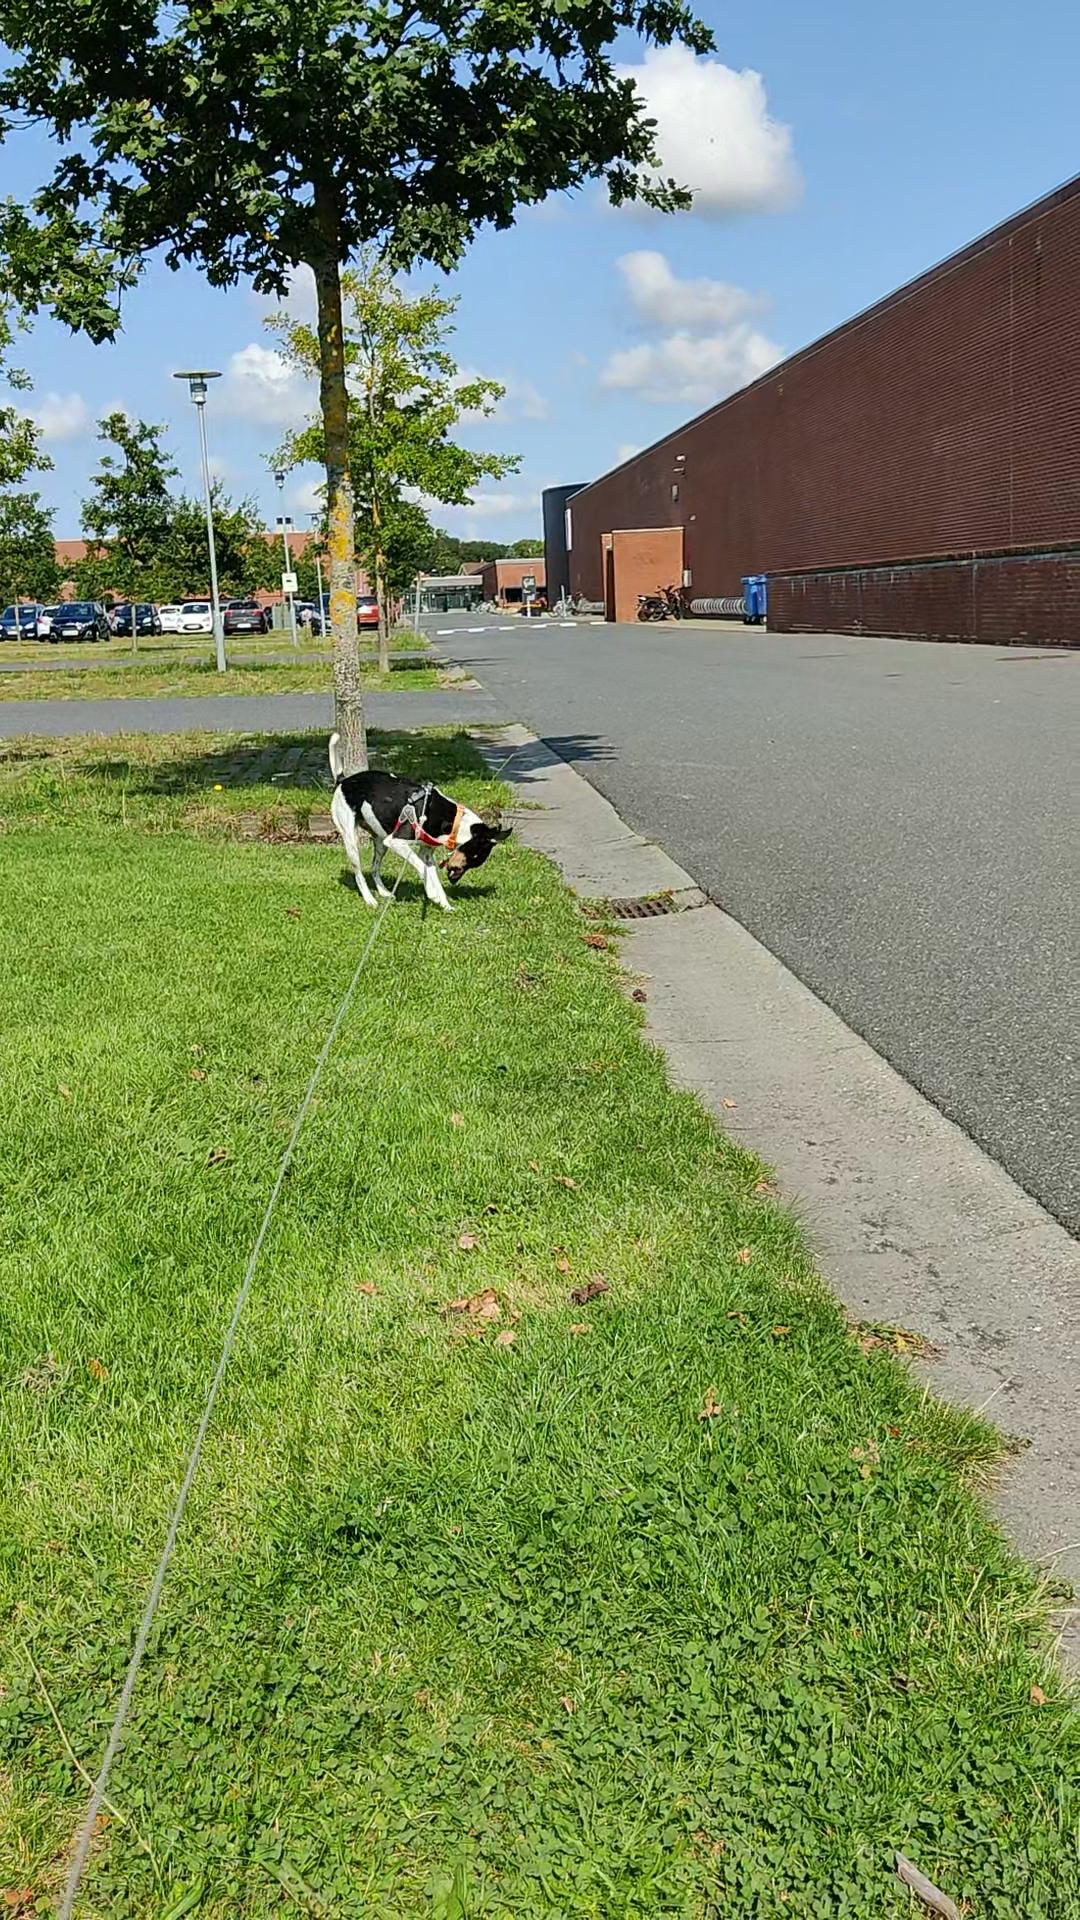Dog: (319, 721, 516, 916)
